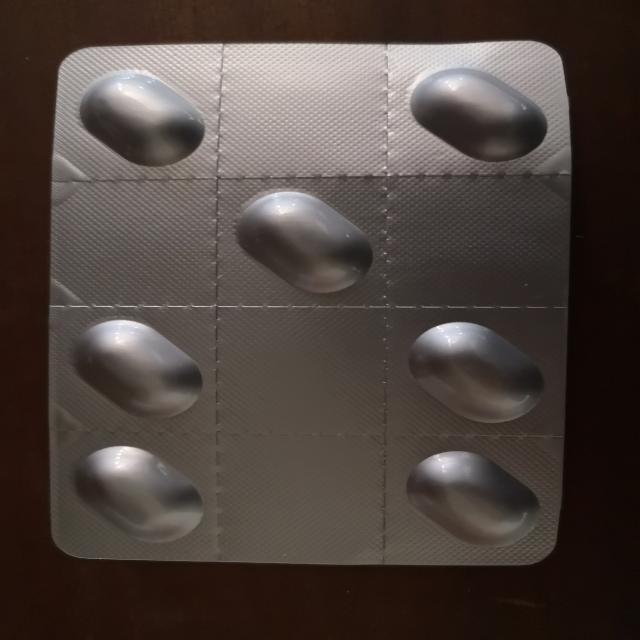Pill: (217, 182, 385, 300), (391, 319, 555, 431), (56, 439, 211, 555), (394, 444, 544, 553), (64, 313, 210, 424), (400, 60, 544, 166), (71, 65, 211, 174)
